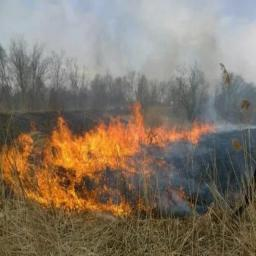Low smoke: (0, 0, 255, 134)
Medium fire: (0, 106, 215, 221)
